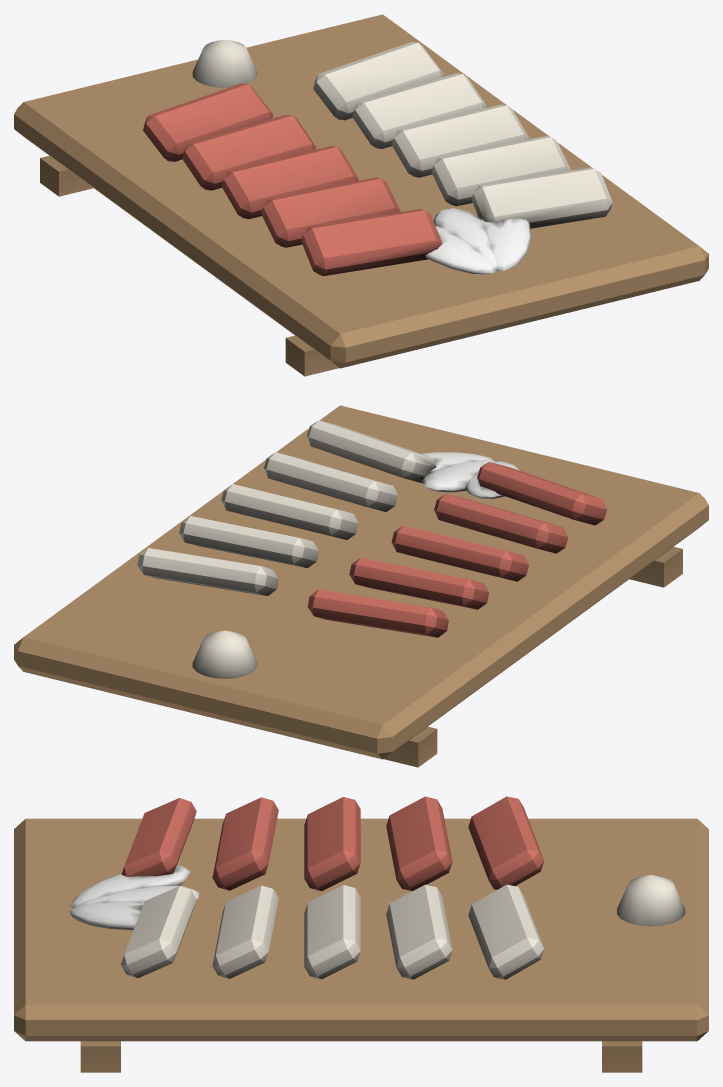
File: meal_sashimi.glb
The picture shows the model from 3 angles, top to bottom: view 1: azimuth 30°, elevation 25°; view 2: azimuth 150°, elevation 25°; view 3: azimuth 270°, elevation 25°; orthographic projection. The views are drawn at different scales.
Visible parts, largest first — view 1: PART; view 2: PART; view 3: PART.
Part boxes in pixels (x1,y1,x2,y2): PART: [14, 14, 708, 376]; PART: [14, 405, 708, 767]; PART: [14, 796, 708, 1072].
Bounding box in the file's own units: 0.16 × 0.0407 × 0.24.
